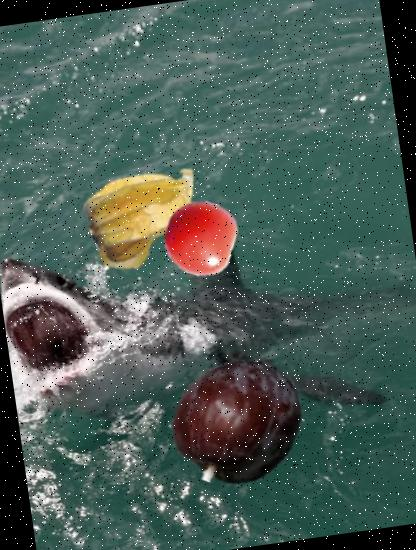Physalis: (80, 146, 217, 282)
Plum: (164, 349, 312, 497)
Tomato: (158, 196, 243, 280)
